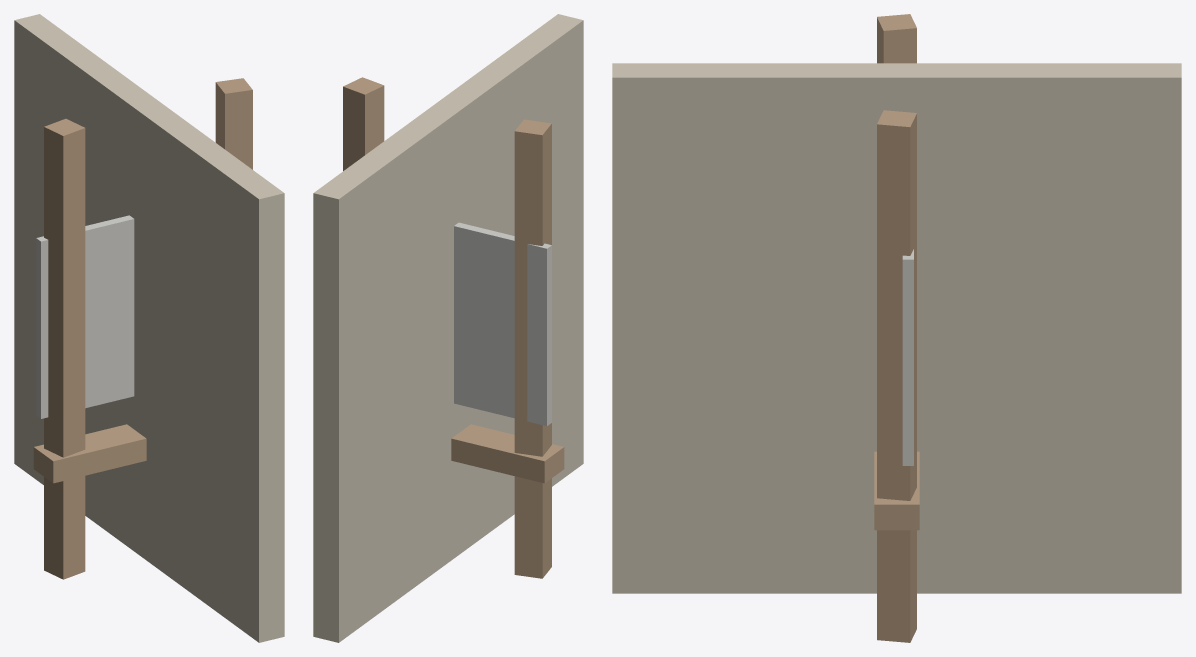
Rendered from kid_cavalete.glb.
The picture shows the model from 3 angles, left to right: view 1: azimuth 30°, elevation 25°; view 2: azimuth 150°, elevation 25°; view 3: azimuth 270°, elevation 25°; orthographic projection. The views are drawn at different scales.
Visible parts, largest first — view 1: KID_CAVALETE_v01; view 2: KID_CAVALETE_v01; view 3: KID_CAVALETE_v01.
Boxes of the visible parts, box(x1,y1,x2,y2) form: KID_CAVALETE_v01: box(14, 14, 284, 642); KID_CAVALETE_v01: box(313, 14, 583, 642); KID_CAVALETE_v01: box(612, 14, 1181, 642).
Bounding box in the file's own units: 0.5 × 1 × 1.
